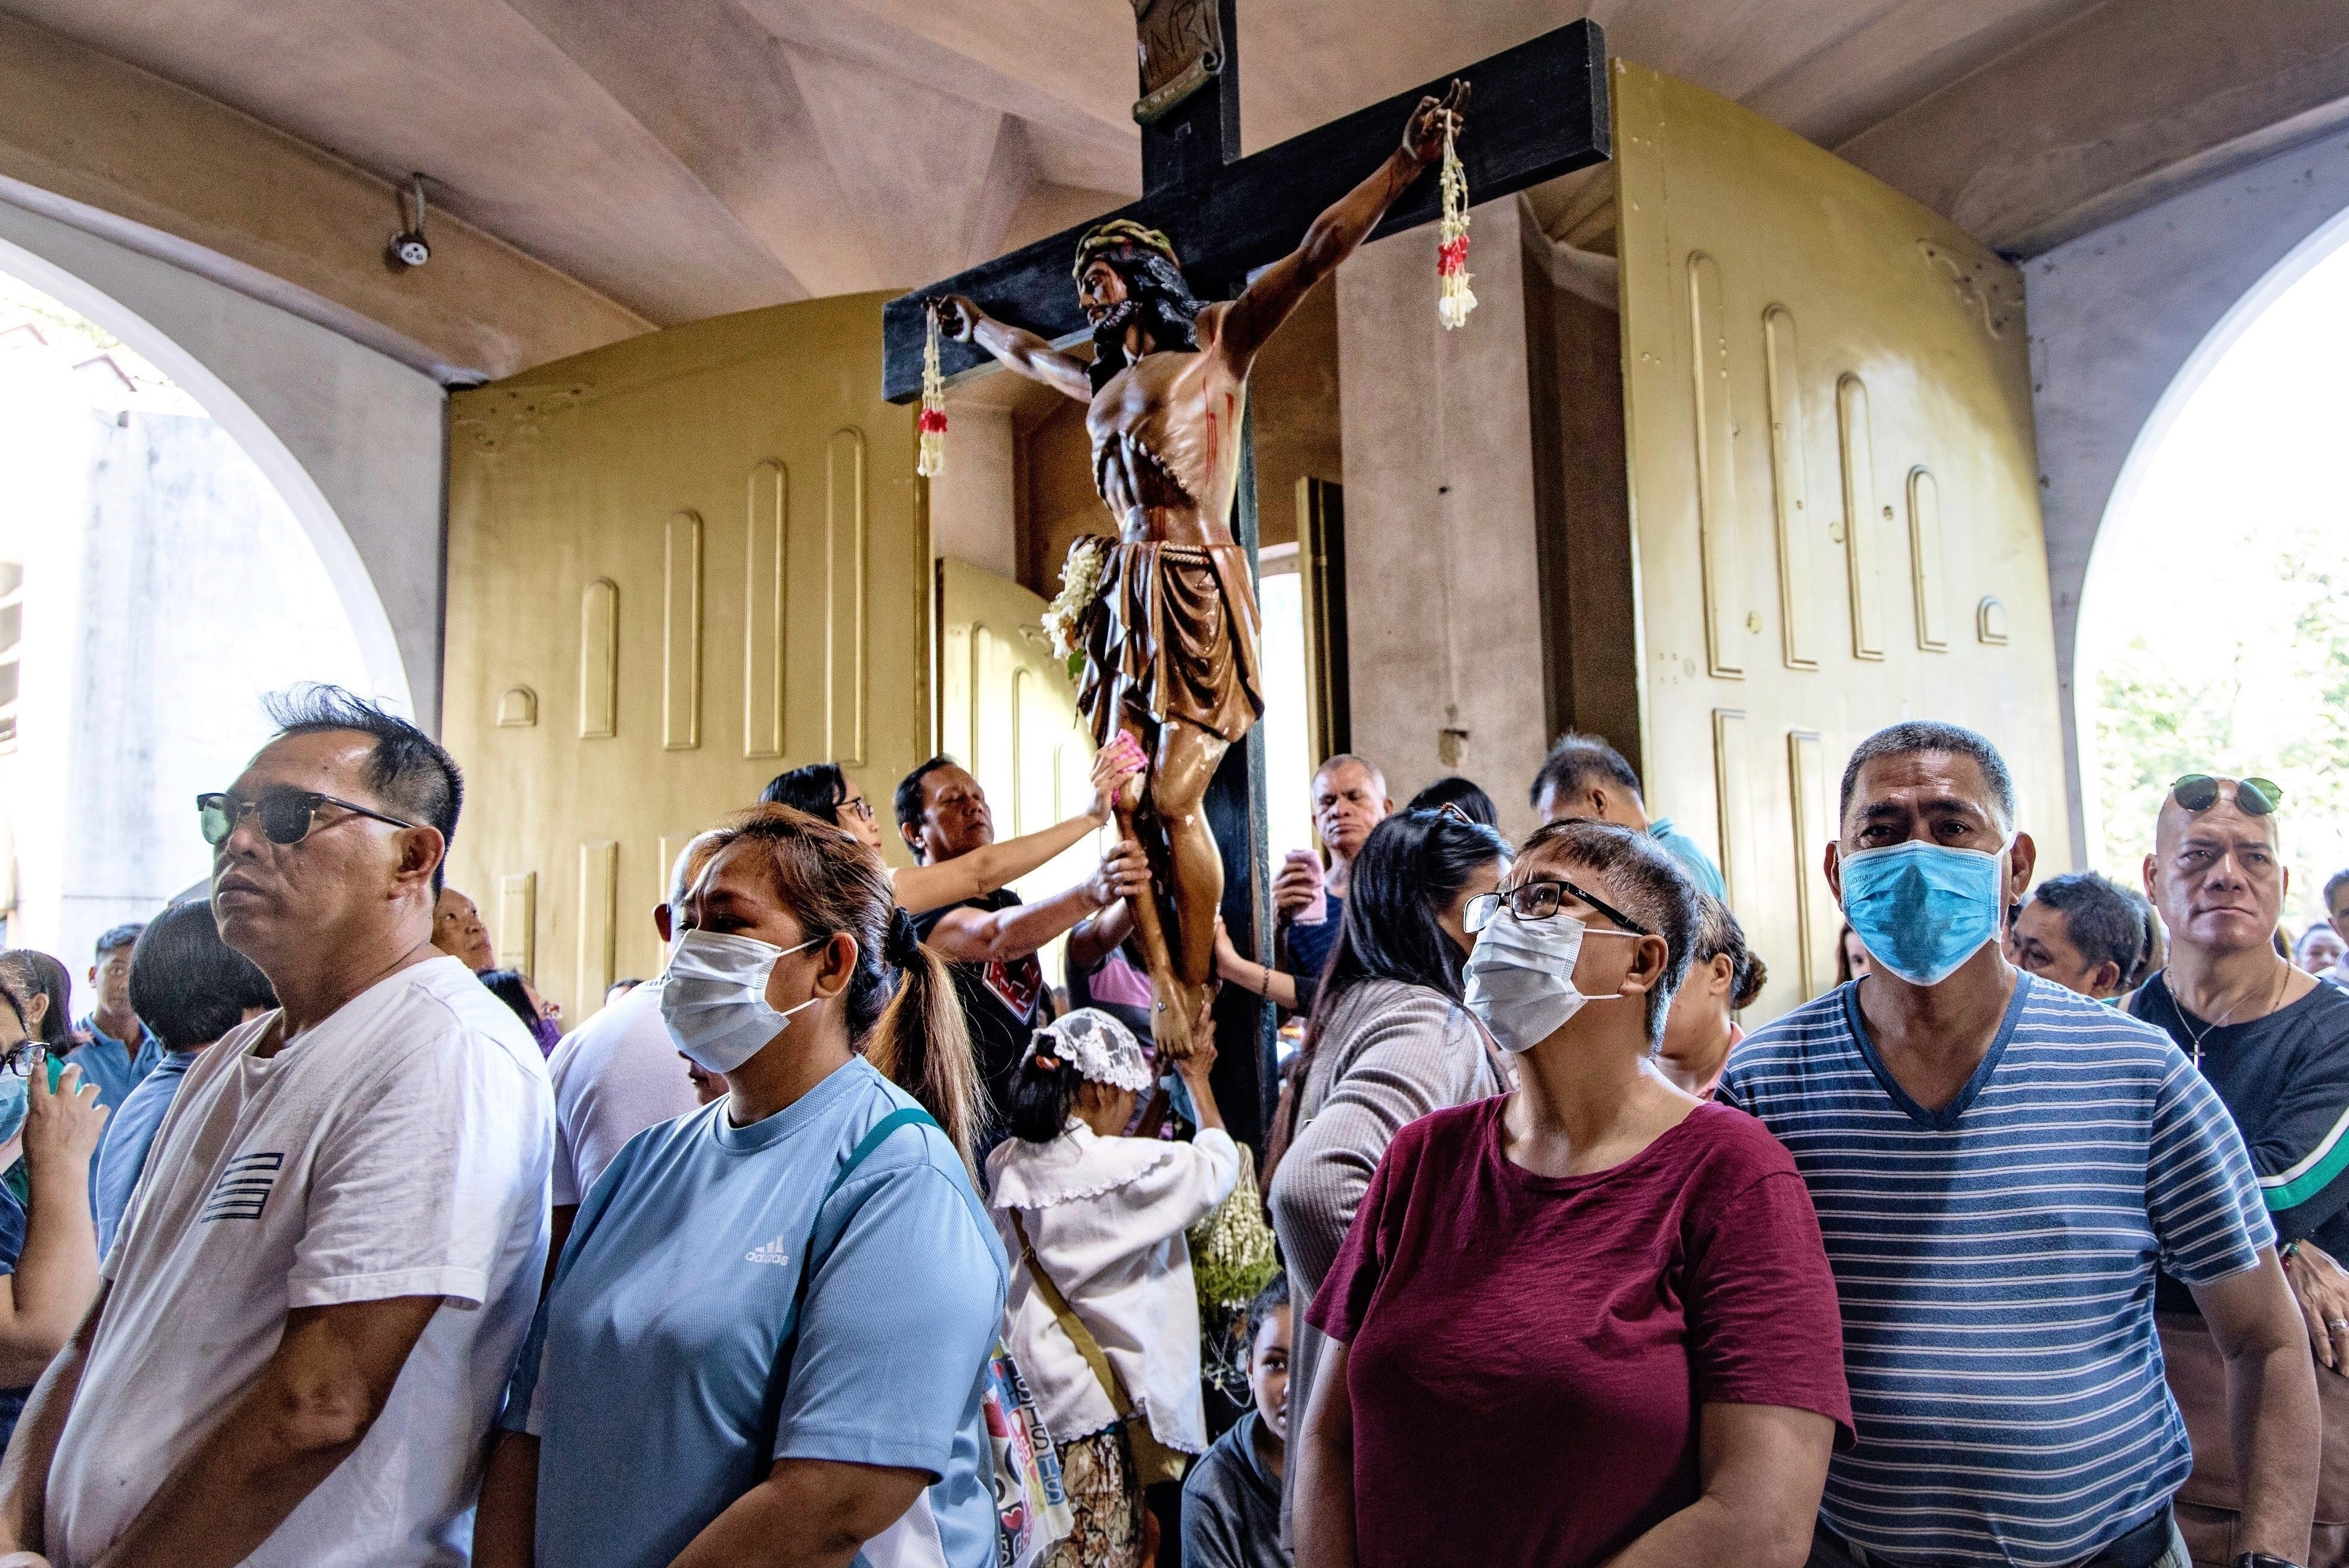face_no_mask: (196, 715, 433, 969), (2147, 766, 2293, 983), (899, 748, 1003, 868), (1298, 743, 1402, 861)
face_with_mask: (657, 819, 890, 1084), (1455, 825, 1697, 1059), (1814, 727, 2029, 988)
